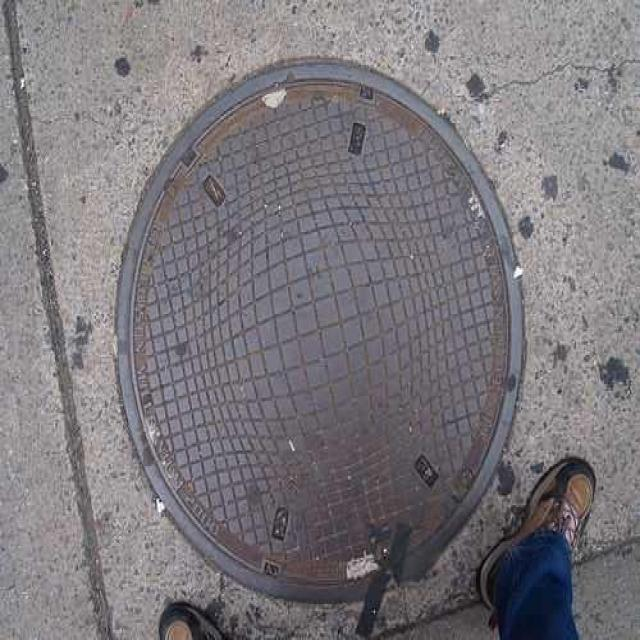manhole: (119, 60, 522, 599)
